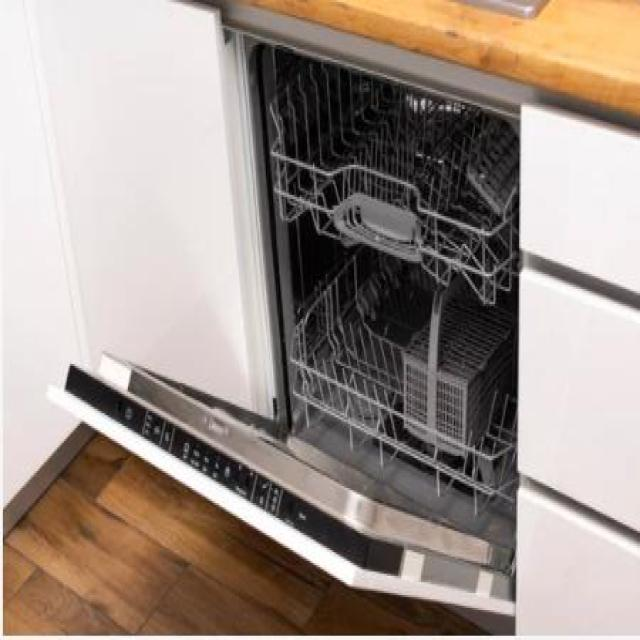dishwasher: (46, 21, 520, 610)
